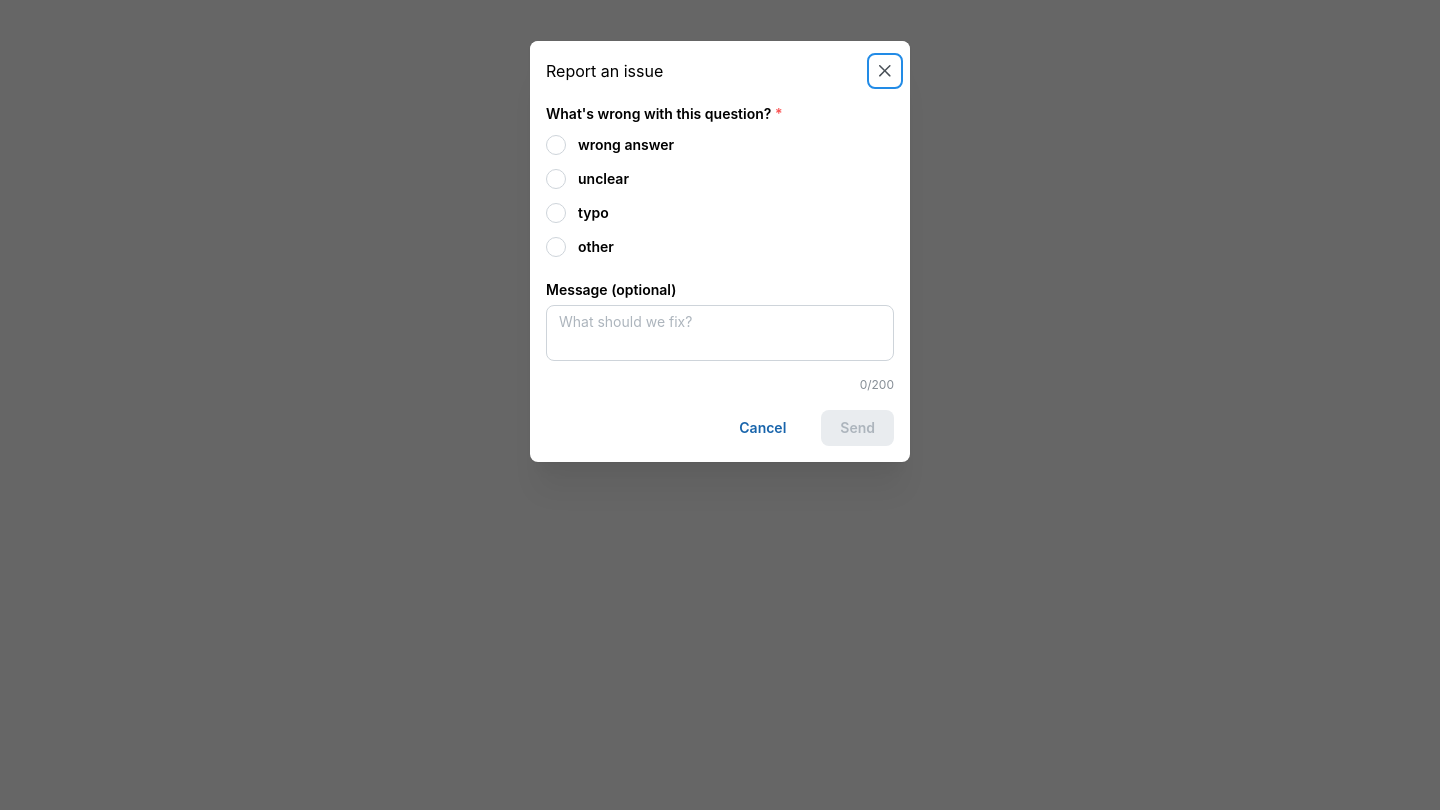
Test: FeedbackModal › submits the chosen reason and message
Click the radio button labelled "typo": coordinates (556, 213) left=546, top=203, right=566, bottom=223
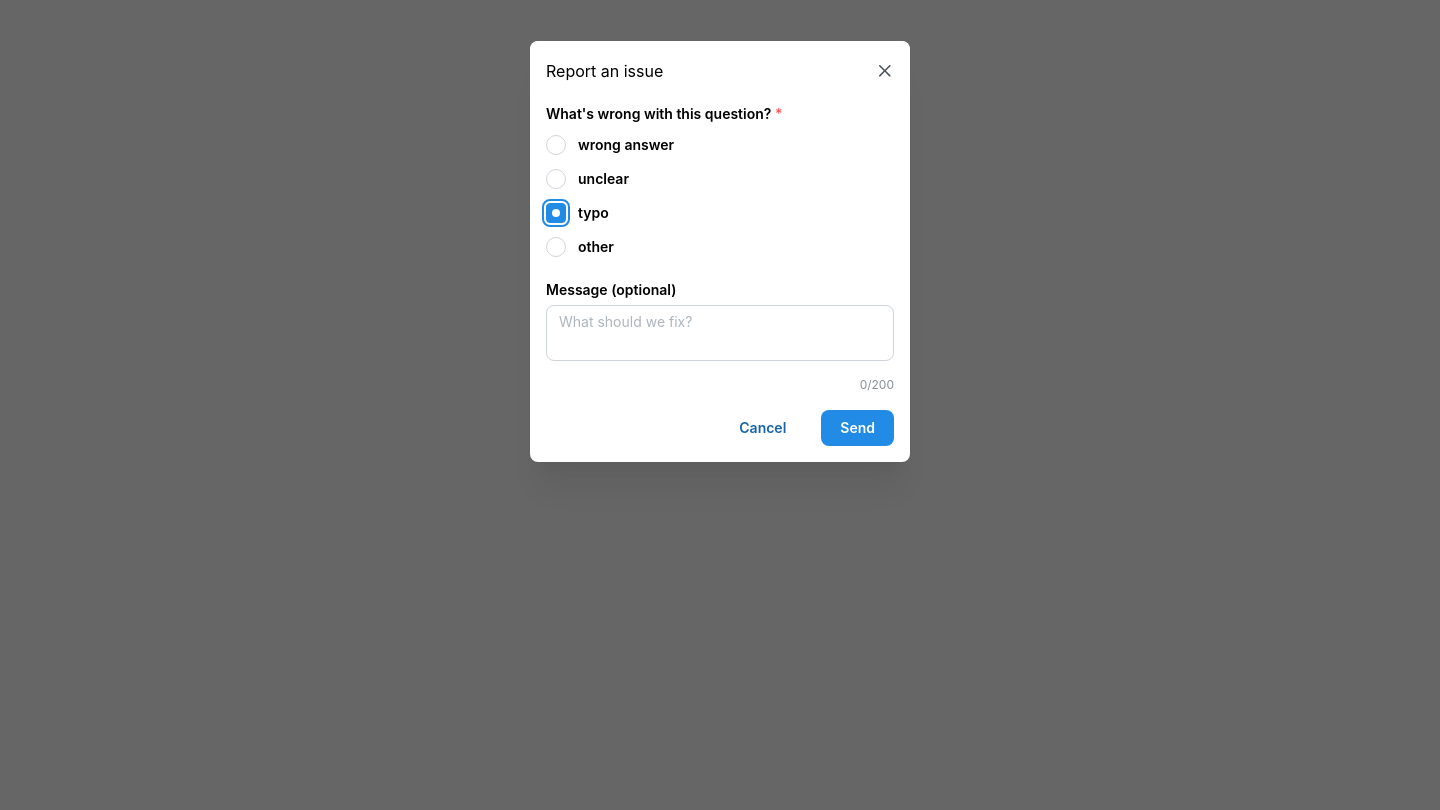
In the text box with test id "feedback-message": coordinates (720, 333) left=546, top=305, right=894, bottom=361, type "missing semicolon"
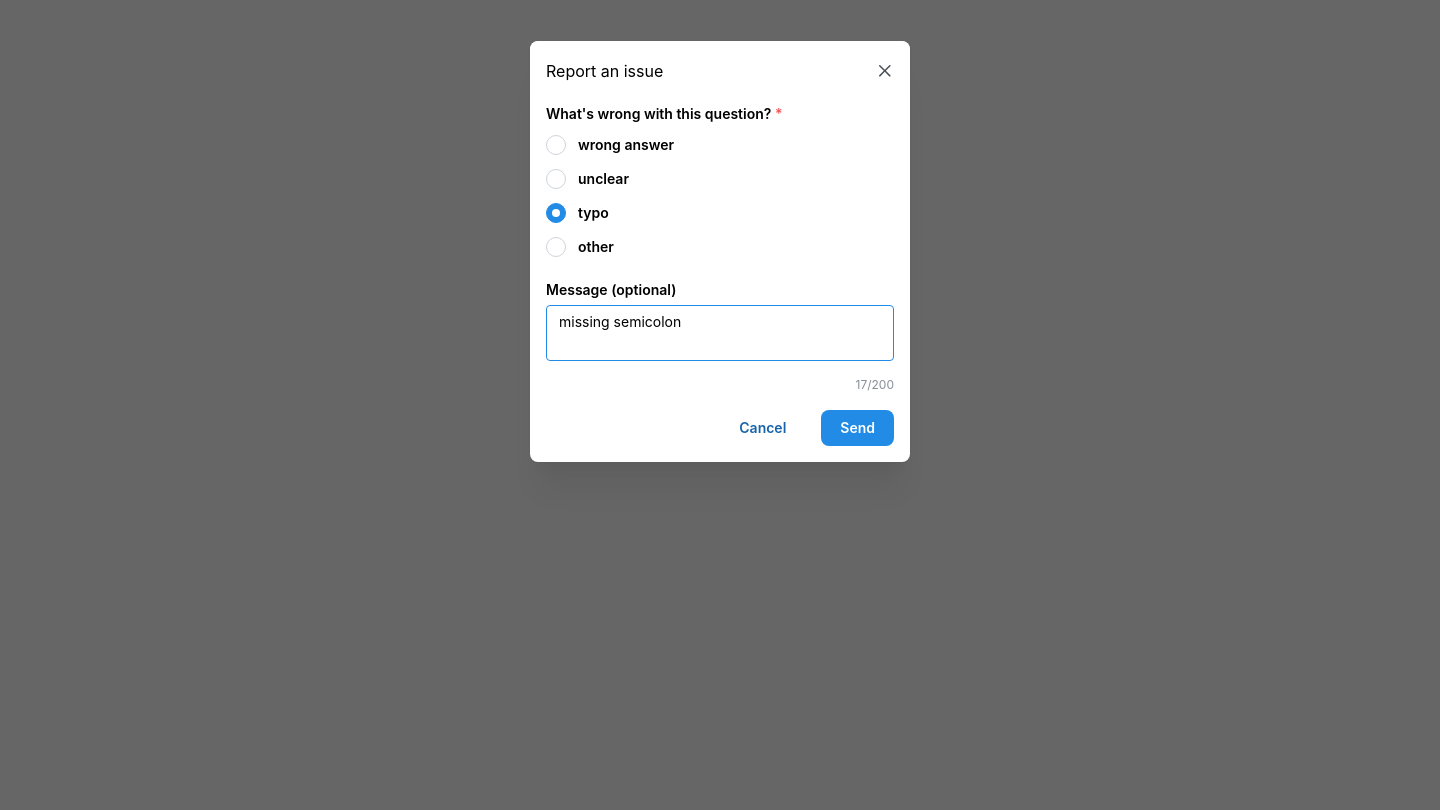
Click the button with test id "feedback-submit": coordinates (858, 428) left=821, top=410, right=894, bottom=446
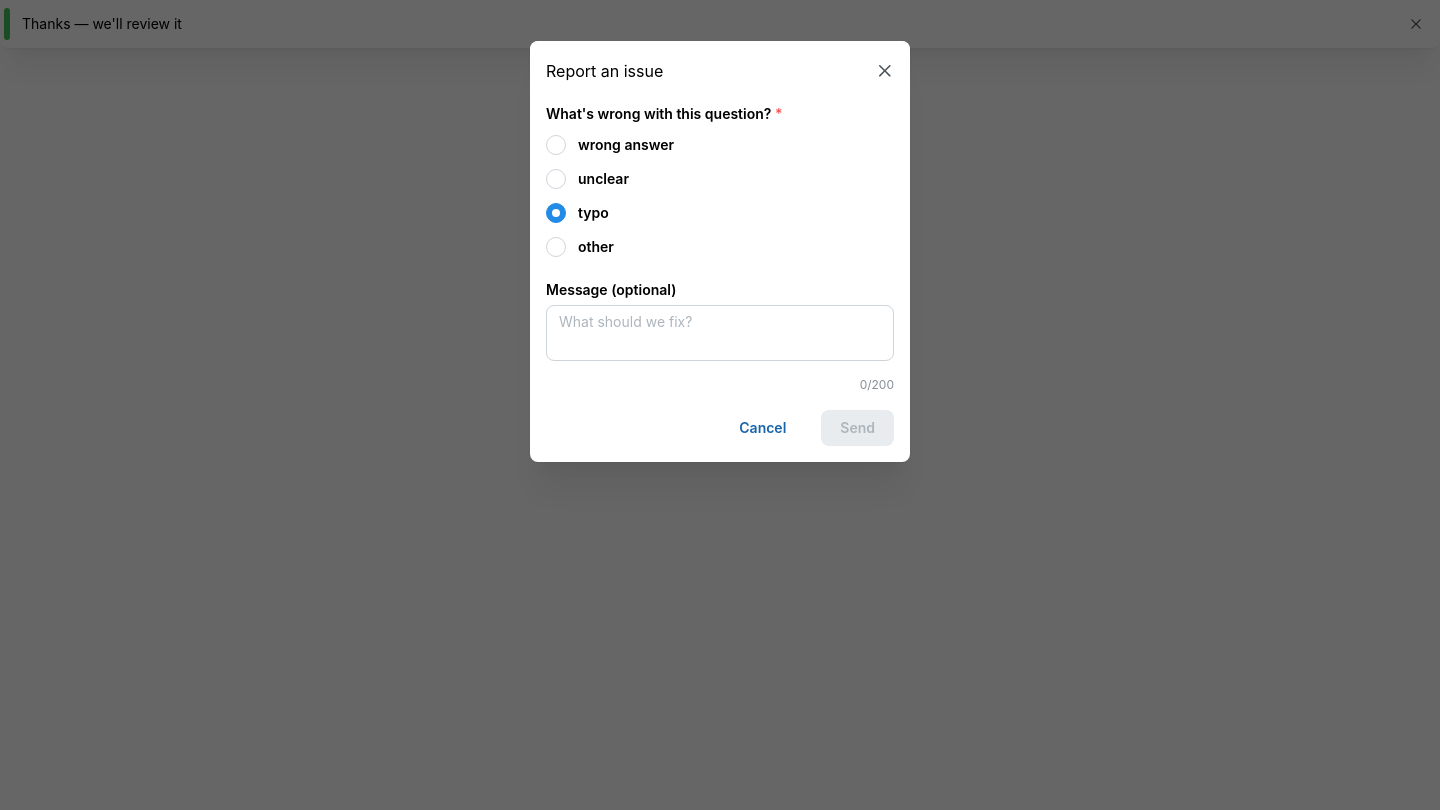
Result: the text "Thanks — we'll review it" is shown at left=22, top=15, right=182, bottom=32
